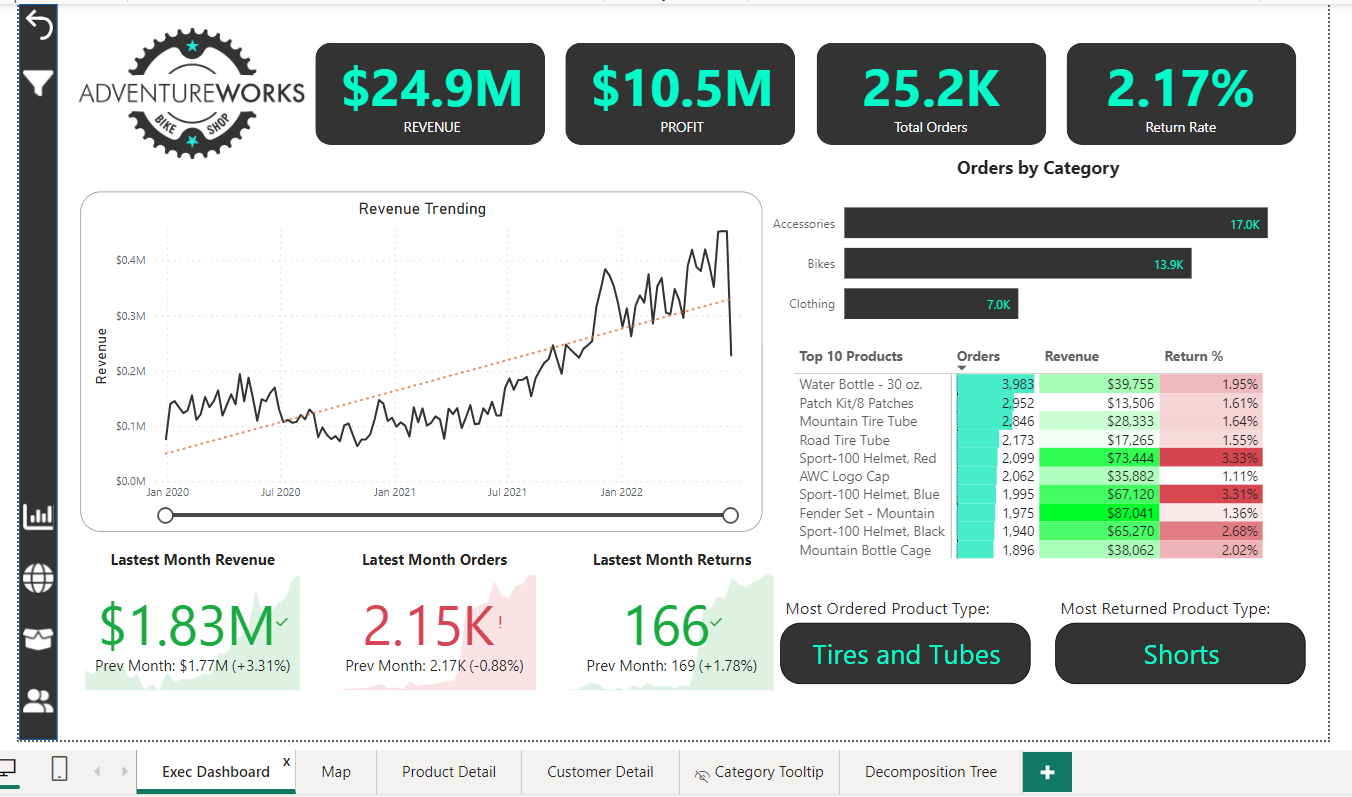

What the dashboard file says about the page in this screenshot:
{"tool":"powerbi","page":{"name":"Exec Dashboard","canvas":[1280,720],"ordinal":3},"visuals":[{"type":"image","title":"AW Logo","box":[29.3,0,279.9,174.8],"z":0},{"type":"card","fields":{"Values":["Measure Table.Revenue (DAX)"]},"box":[273.8,29.3,260.4,116.1],"z":0,"group":"g2"},{"type":"group","id":"g1","title":"KPI Backgrounds","box":[289.7,37.9,959.6,100.2],"z":0,"group":"g3"},{"type":"shape","box":[289.7,37.9,224.9,100.2],"z":0,"group":"g1"},{"type":"shape","title":"Left Nav Background","box":[0,0,37.5,720],"z":1000},{"type":"group","id":"g2","title":"KPI Cards","box":[273.8,29.3,992.6,116.1],"z":1000,"group":"g3"},{"type":"card","fields":{"Values":["Measure Table.Total Orders"]},"box":[761.9,29.3,260.4,116.1],"z":1000,"group":"g2"},{"type":"shape","box":[534.6,37.9,224.9,100.2],"z":1000,"group":"g1"},{"type":"group","id":"g3","title":"KPIs","box":[273.8,29.3,992.6,116.1],"z":2000},{"type":"card","fields":{"Values":["Measure Table.Return Rate"]},"box":[1006,29.3,260.4,116.1],"z":2000,"group":"g2"},{"type":"shape","box":[779.5,37.9,224.9,100.2],"z":2000,"group":"g1"},{"type":"card","fields":{"Values":["Measure Table.Total Profit"]},"box":[517.9,29.3,260.4,116.1],"z":3000,"group":"g2"},{"type":"shape","box":[1024.4,37.9,224.9,100.2],"z":3000,"group":"g1"},{"type":"lineChart","title":"Revenue Trending","fields":{"Y":["Measure Table.Revenue (DAX)"],"Category":["Calendar Lookup.Year","Calendar Lookup.Start of Quarter","Calendar Lookup.Start of Month","Calendar Lookup.Start of Week"]},"box":[59.9,183.4,667.4,332.5],"z":3000},{"type":"kpi","title":"Lastest Month Revenue","fields":{"Indicator":["Measure Table.Revenue (DAX)"],"TrendLine":["Calendar Lookup.Start of Month"],"Goal":["Measure Table.Previous Month Revenue"]},"box":[60,532.5,220,143.8],"z":4000},{"type":"kpi","title":"Latest Month Orders","fields":{"Indicator":["Measure Table.Total Orders"],"TrendLine":["Calendar Lookup.Start of Month"],"Goal":["Measure Table.Previous Month Orders"]},"box":[302.5,532.5,208.8,143.8],"z":5000},{"type":"kpi","title":"Lastest Month Returns","fields":{"TrendLine":["Calendar Lookup.Start of Month"],"Indicator":["Measure Table.Total Returns"],"Goal":["Measure Table.Previous Month Returns"]},"box":[533.8,532.5,208.8,143.8],"z":6000},{"type":"clusteredBarChart","title":"Orders by Category","fields":{"Category":["Product Categories Lookup.CategoryName"],"Y":["Measure Table.Total Orders"]},"box":[727.5,147.5,538.8,182.5],"z":7000},{"type":"pivotTable","fields":{"Rows":["Product Lookup.ProductName"],"Values":["Measure Table.Total Orders","Measure Table.Revenue (DAX)","Measure Table.Return Rate"]},"box":[752.5,330,506.2,236.2],"z":8000},{"type":"card","fields":{"Values":["Min(Product Subcategories Lookup.SubcategoryName)"]},"box":[745,605,245,60],"z":9000},{"type":"textbox","box":[745,575,245,43.8],"z":10000},{"type":"card","fields":{"Values":["Min(Product Subcategories Lookup.SubcategoryName)"]},"box":[1013.8,605,245,60],"z":11000},{"type":"textbox","box":[1013.8,575,228.8,43.8],"z":12000},{"type":"actionButton","box":[0,0,100,40],"z":13000},{"type":"actionButton","box":[0,482,37.5,40],"z":14000},{"type":"actionButton","box":[0,541.6,37.5,40],"z":15000},{"type":"actionButton","box":[0,601.2,37.5,40],"z":16000},{"type":"actionButton","box":[0,57.5,37.5,40],"z":17000},{"type":"actionButton","box":[0,660.7,37.5,40],"z":18000}]}

Visuals, with their boxes on the page's 1280x720 design canvas (x1, y1, x2, y2). These are canvas units, not pixel positions in the 1352x797 screenshot, which may show the page scaled, cropped or inside an application window:
"AW Logo" image: [left=29, top=0, right=309, bottom=175]
card - Measure Table.Revenue (DAX): [left=274, top=29, right=534, bottom=145]
"KPI Backgrounds" group: [left=290, top=38, right=1249, bottom=138]
shape: [left=290, top=38, right=515, bottom=138]
"Left Nav Background" shape: [left=0, top=0, right=38, bottom=720]
"KPI Cards" group: [left=274, top=29, right=1266, bottom=145]
card - Measure Table.Total Orders: [left=762, top=29, right=1022, bottom=145]
shape: [left=535, top=38, right=760, bottom=138]
"KPIs" group: [left=274, top=29, right=1266, bottom=145]
card - Measure Table.Return Rate: [left=1006, top=29, right=1266, bottom=145]
shape: [left=780, top=38, right=1004, bottom=138]
card - Measure Table.Total Profit: [left=518, top=29, right=778, bottom=145]
shape: [left=1024, top=38, right=1249, bottom=138]
"Revenue Trending" lineChart: [left=60, top=183, right=727, bottom=516]
"Lastest Month Revenue" kpi: [left=60, top=532, right=280, bottom=676]
"Latest Month Orders" kpi: [left=302, top=532, right=511, bottom=676]
"Lastest Month Returns" kpi: [left=534, top=532, right=743, bottom=676]
"Orders by Category" clusteredBarChart: [left=728, top=148, right=1266, bottom=330]
pivotTable - Product Lookup.ProductName x Measure Table.Total Orders: [left=752, top=330, right=1259, bottom=566]
card - Min(Product Subcategories Lookup.SubcategoryName): [left=745, top=605, right=990, bottom=665]
textbox: [left=745, top=575, right=990, bottom=619]
card - Min(Product Subcategories Lookup.SubcategoryName): [left=1014, top=605, right=1259, bottom=665]
textbox: [left=1014, top=575, right=1243, bottom=619]
actionButton: [left=0, top=0, right=100, bottom=40]
actionButton: [left=0, top=482, right=38, bottom=522]
actionButton: [left=0, top=542, right=38, bottom=582]
actionButton: [left=0, top=601, right=38, bottom=641]
actionButton: [left=0, top=58, right=38, bottom=98]
actionButton: [left=0, top=661, right=38, bottom=701]
